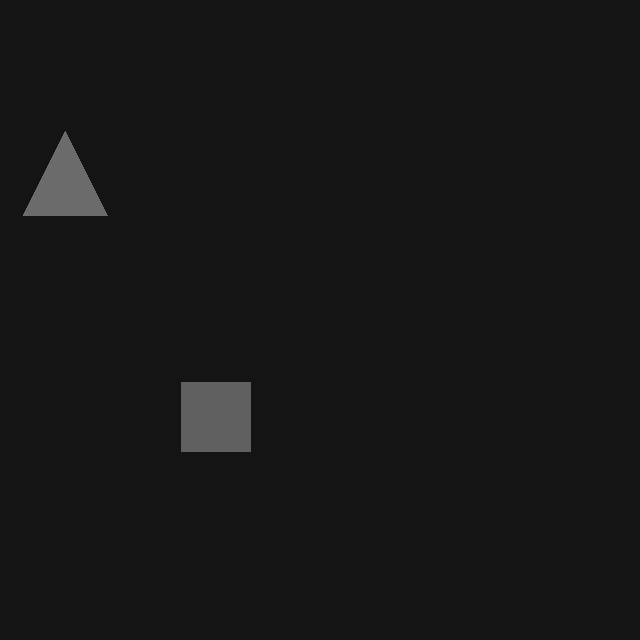square: (181, 382, 250, 451)
triangle: (23, 131, 107, 215)
